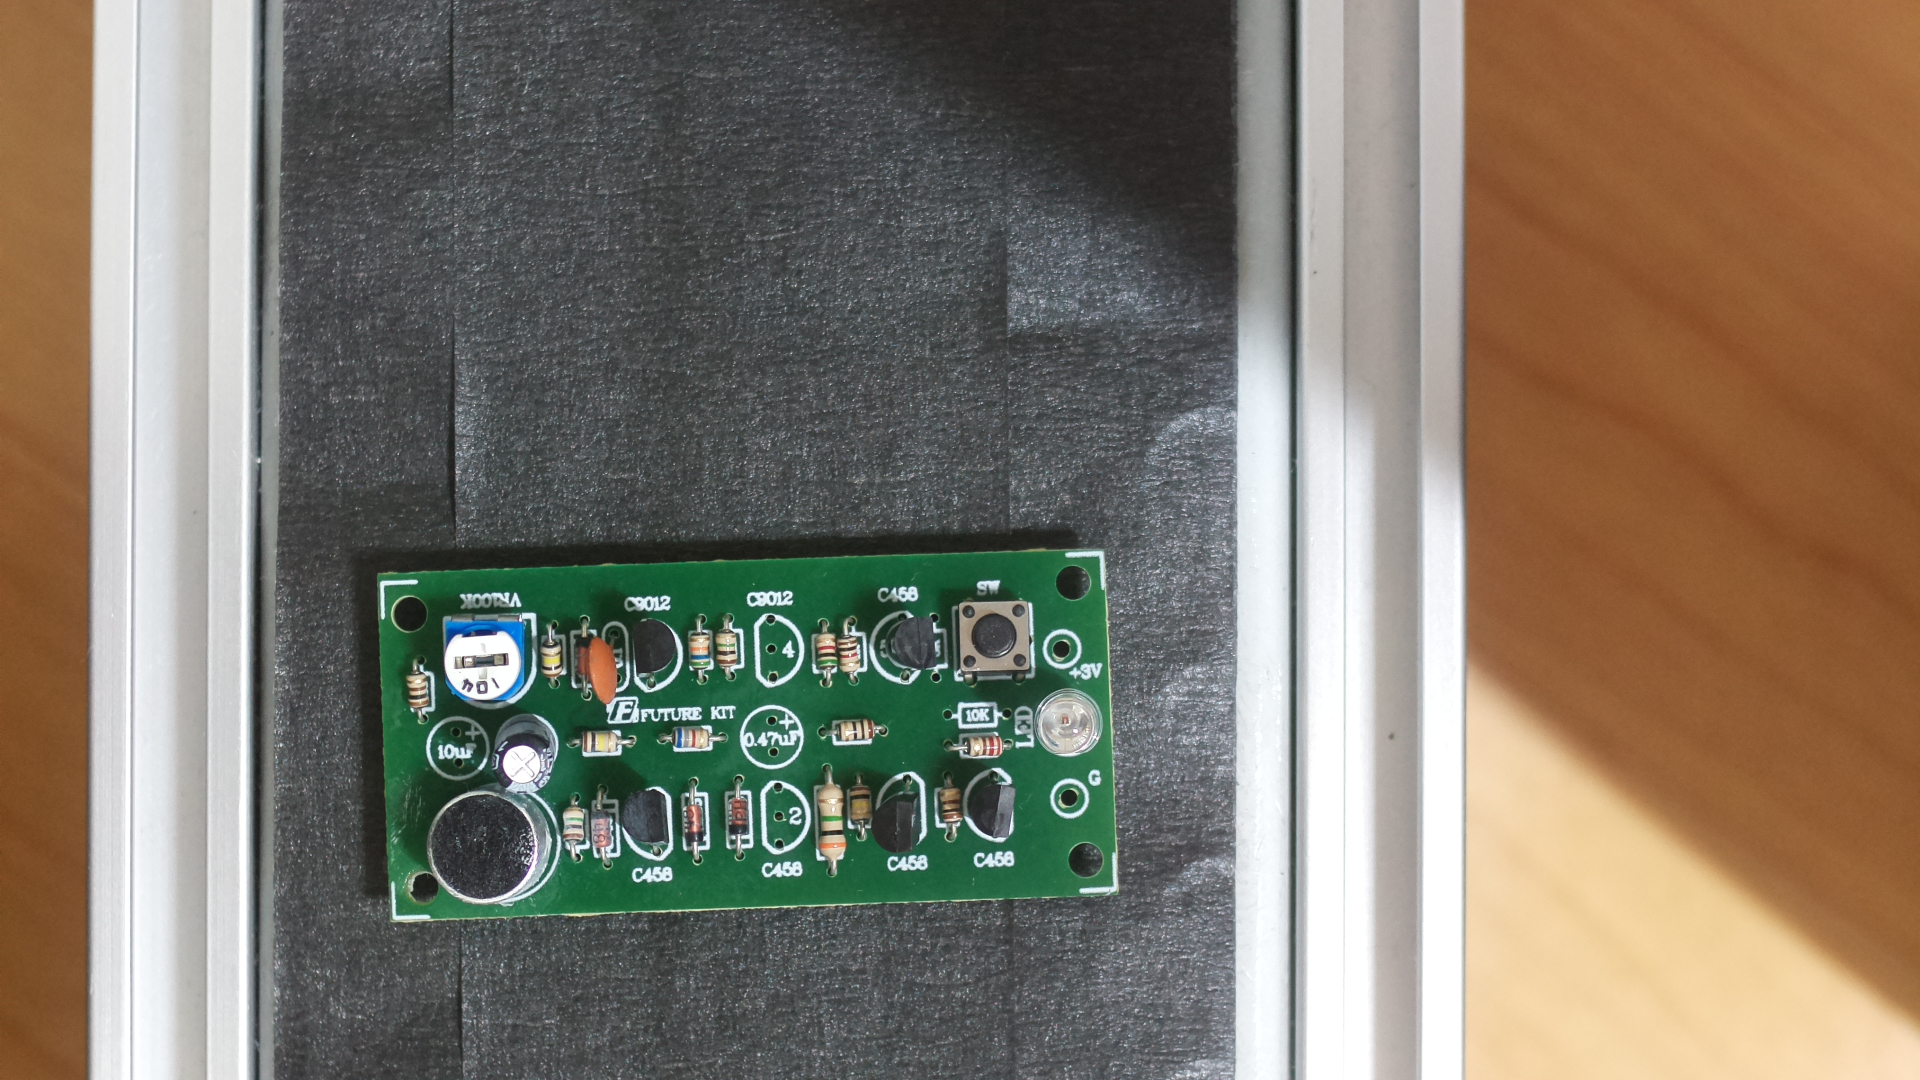A_Missing_part: (369, 560, 1131, 926)
